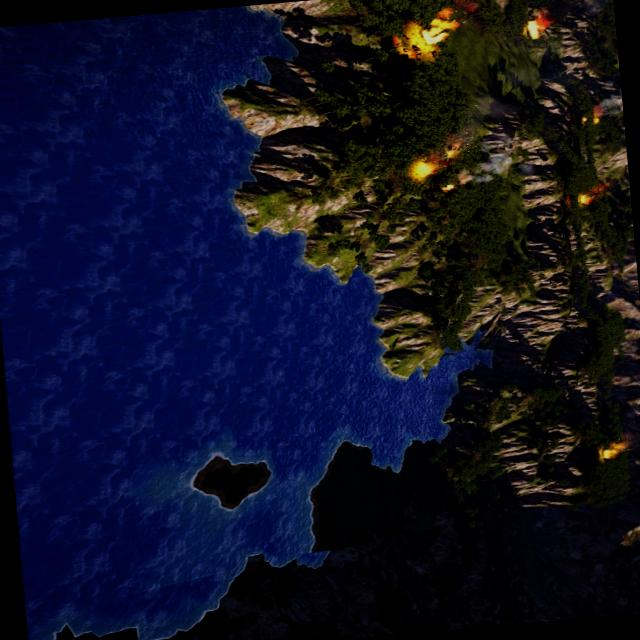fire: (412, 10, 459, 50), (594, 438, 634, 462), (524, 10, 552, 34), (574, 105, 606, 126), (409, 158, 433, 180), (525, 20, 540, 38), (576, 193, 590, 206), (441, 186, 451, 192)
smoke: (444, 92, 525, 186)
